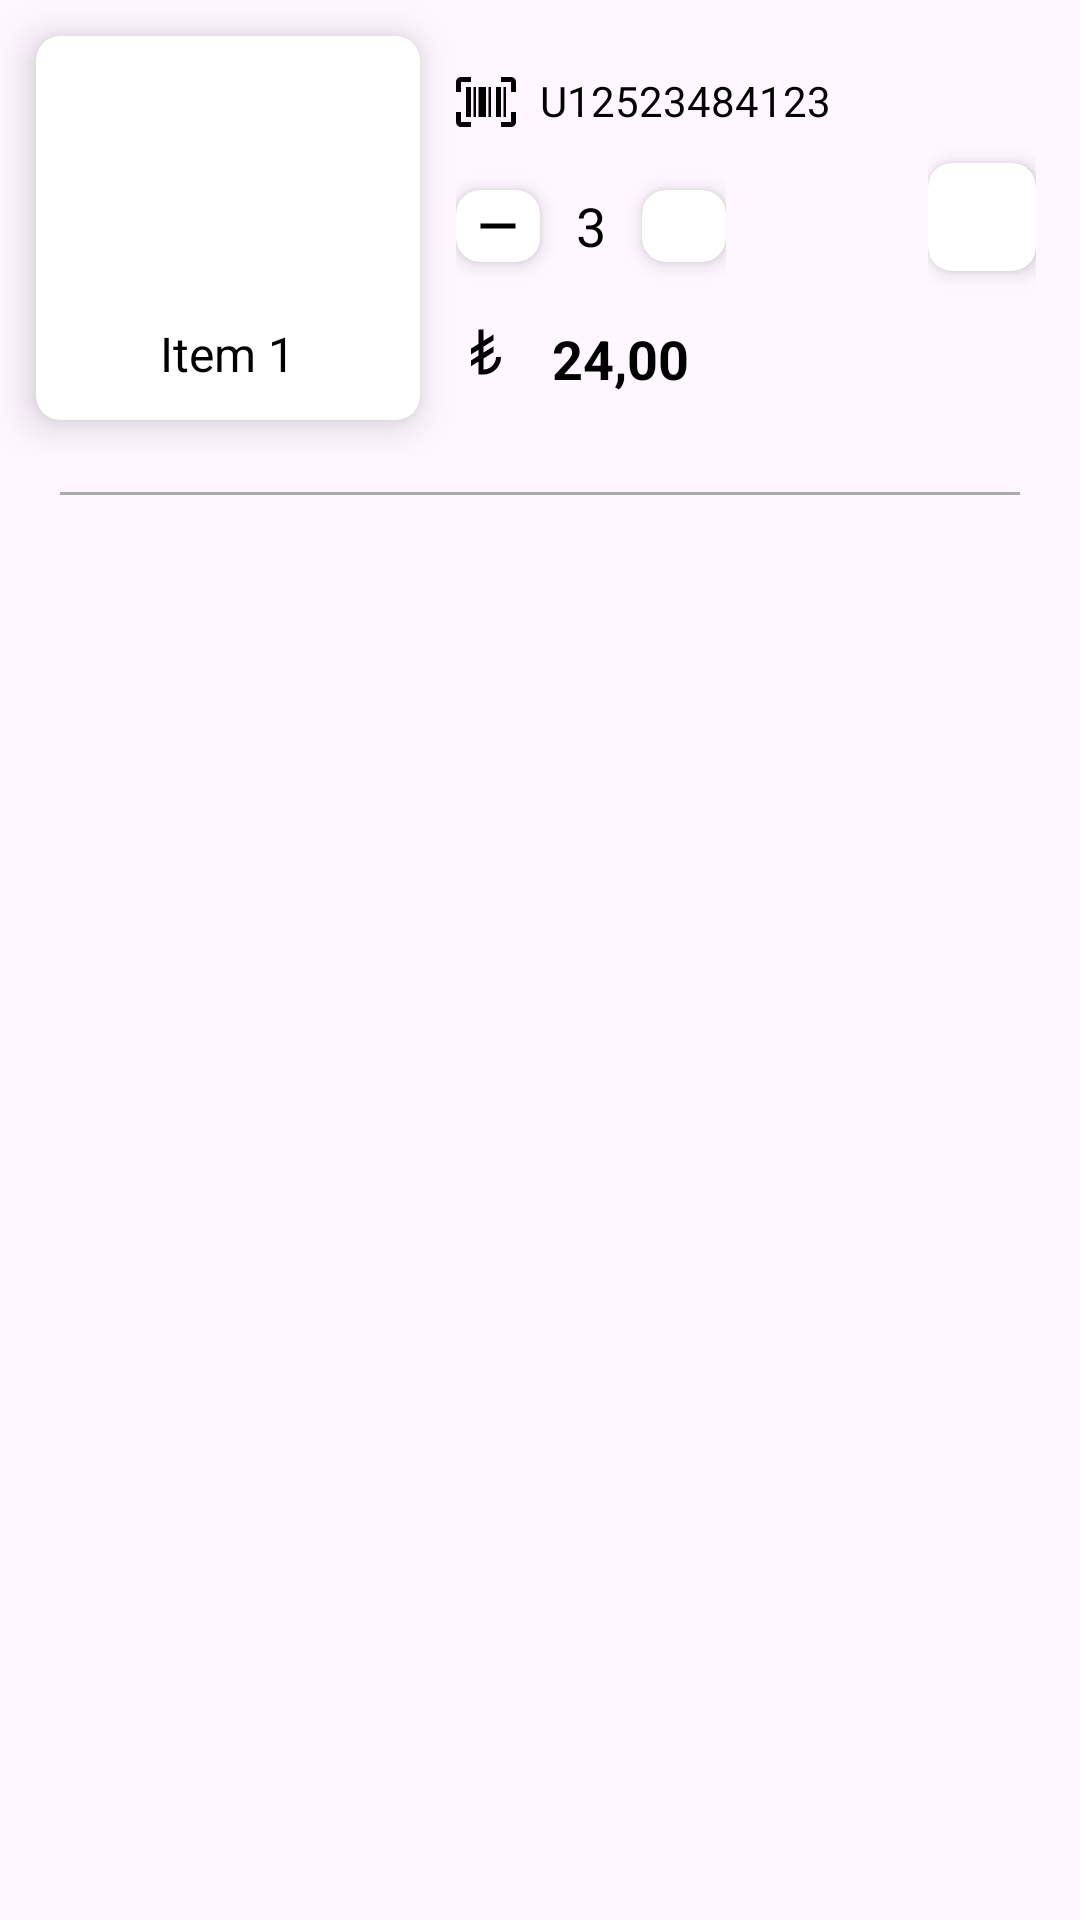

Icon bounding boxes for this 1080 x 1920 phone screenshot, format box(x1, y1, x2, y2):
barcode scan: box(456, 77, 516, 127)
currency try: box(471, 329, 501, 375)
minus: box(480, 223, 516, 229)
